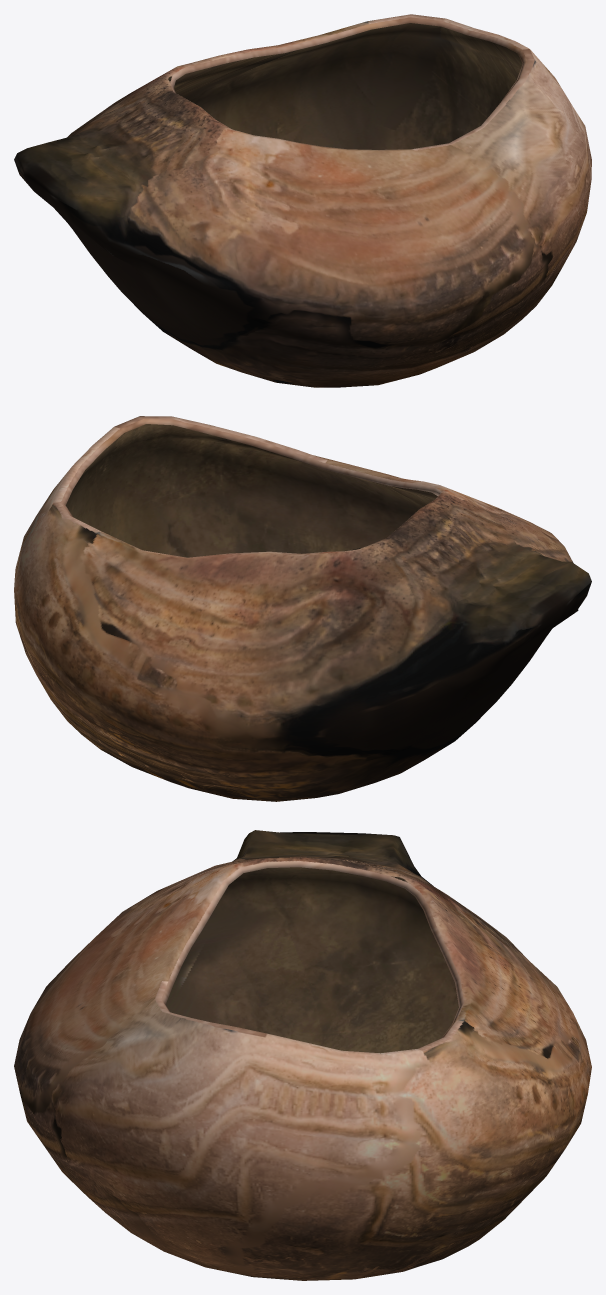
The model's file is ritual 1.fbx.
3 views of the same model, one above another, from view 1: azimuth 30°, elevation 25°; view 2: azimuth 150°, elevation 25°; view 3: azimuth 270°, elevation 25° (orthographic). The views are drawn at different scales.
Visible parts, largest first — view 1: ritual 1; view 2: ritual 1; view 3: ritual 1.
Boxes of the visible parts, <box> form: ritual 1: <box>14,14,591,387</box>; ritual 1: <box>14,416,591,801</box>; ritual 1: <box>14,830,591,1280</box>.
Bounding box in the file's own units: 13.48 × 12.04 × 7.17.
1 material, 1 textured.
